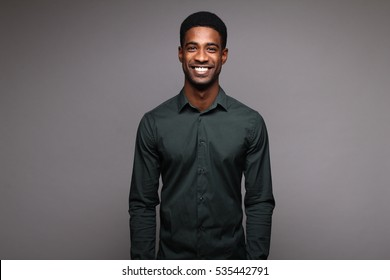Without Helmet: (176, 10, 231, 89)
